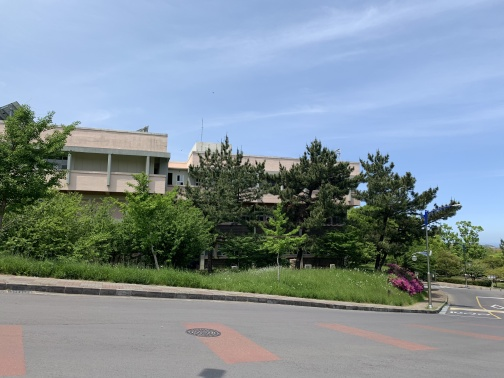College Of Education: (1, 109, 364, 286)
